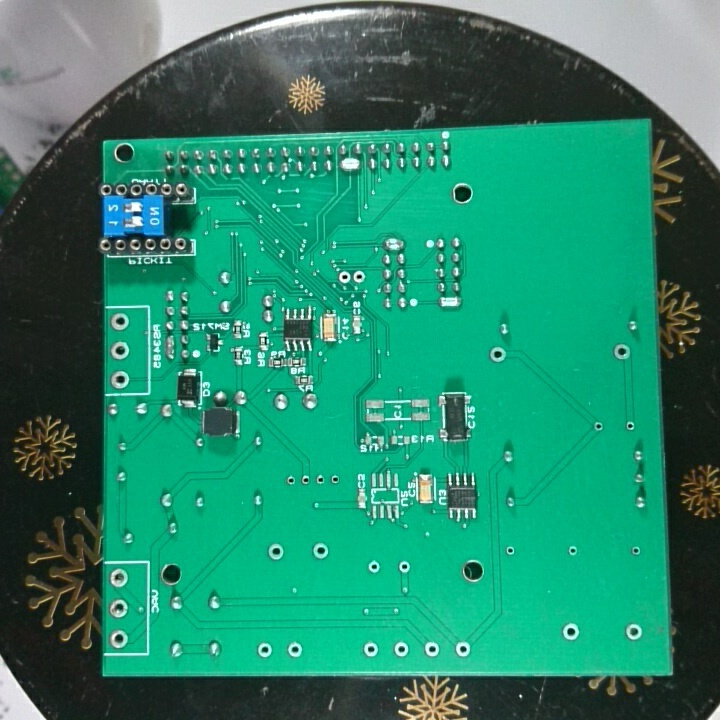F: (486, 343, 513, 368), (107, 566, 131, 591), (108, 338, 131, 363), (108, 310, 131, 334), (611, 340, 634, 363), (109, 367, 131, 391), (560, 620, 582, 643), (622, 621, 645, 643), (107, 629, 131, 650), (108, 598, 129, 622), (310, 540, 332, 562), (421, 638, 442, 660), (390, 638, 411, 660), (266, 542, 288, 563), (452, 638, 473, 659), (360, 638, 379, 661), (254, 640, 274, 661), (284, 640, 305, 659), (365, 558, 383, 577), (351, 266, 367, 286), (395, 558, 413, 575), (337, 267, 353, 286), (298, 472, 314, 489), (502, 543, 518, 559), (565, 542, 580, 559), (284, 472, 299, 489), (628, 543, 643, 559), (623, 418, 637, 435), (314, 472, 328, 489), (328, 471, 342, 488), (592, 419, 605, 435)
P: (161, 332, 178, 361), (435, 295, 465, 311), (338, 155, 362, 175), (381, 236, 408, 252)
